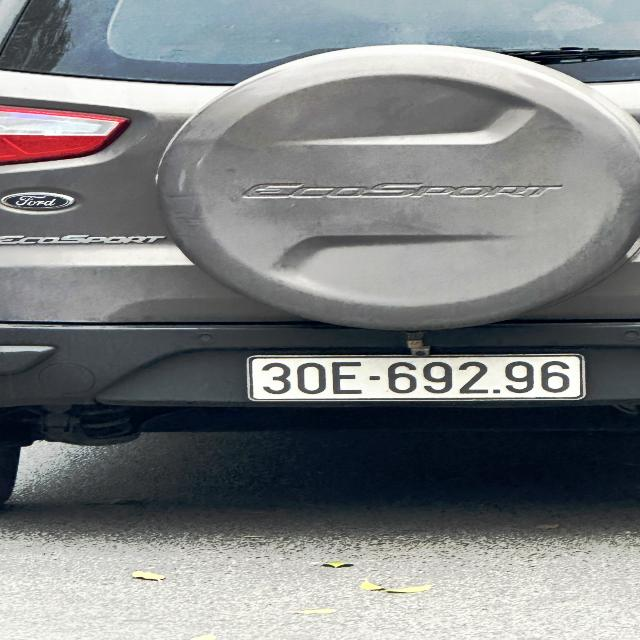license_plate: (246, 351, 585, 402)
